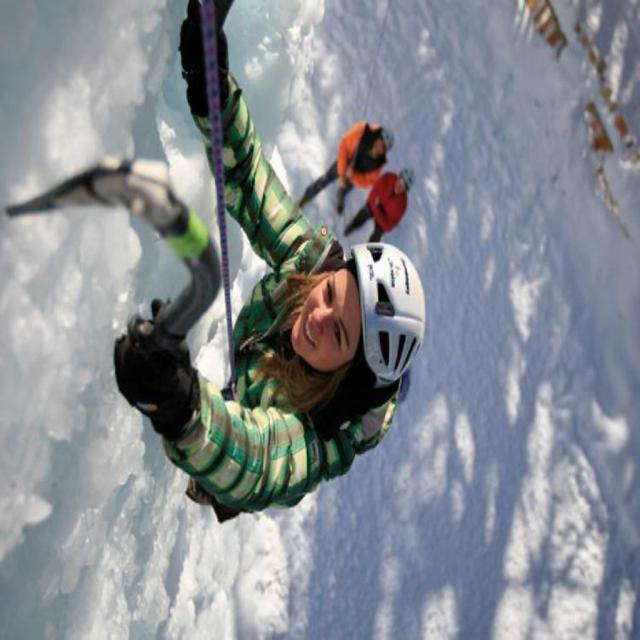nomask: (291, 268, 365, 370), (370, 133, 386, 156), (394, 176, 407, 193)
